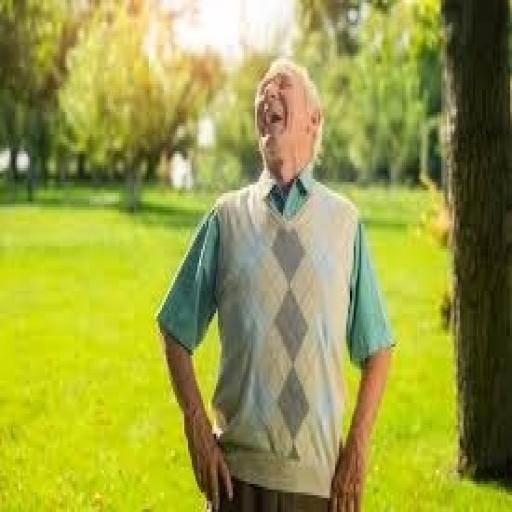laughing: (149, 48, 400, 509)
